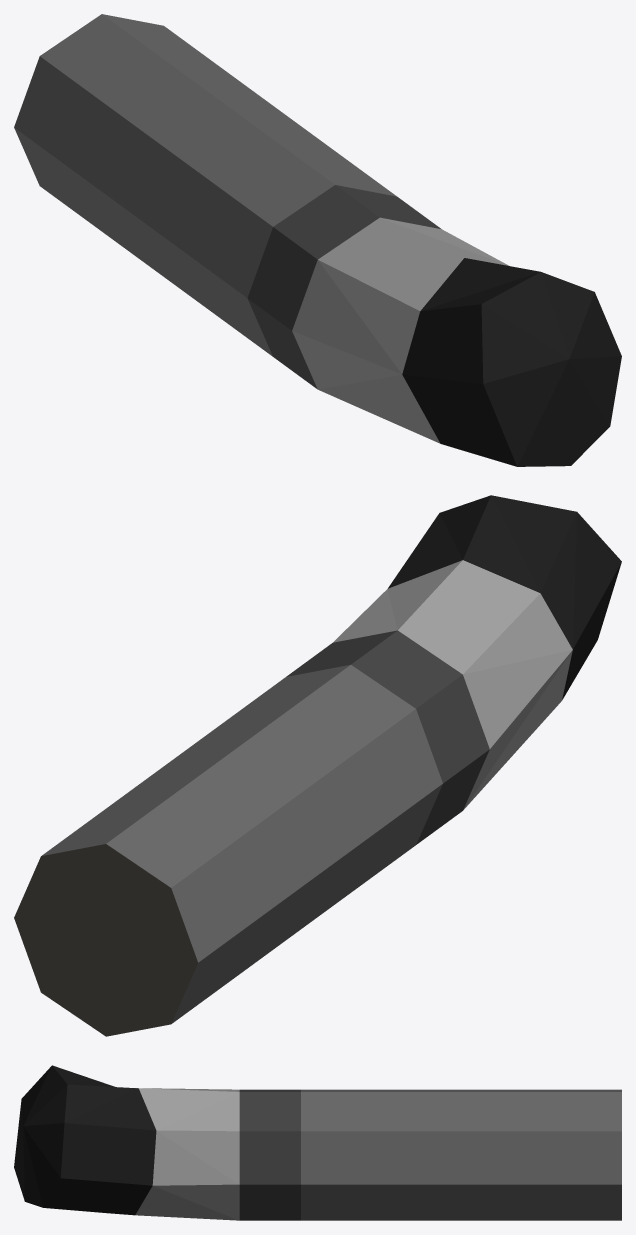
The model's file is Prop_Cigarette_03.fbx.
3 views of the same model, one above another, from view 1: azimuth 30°, elevation 25°; view 2: azimuth 150°, elevation 25°; view 3: azimuth 270°, elevation 25° (orthographic). The views are drawn at different scales.
Visible parts, largest first — view 1: Prop_Cigarette_03_LOD0; view 2: Prop_Cigarette_03_LOD0; view 3: Prop_Cigarette_03_LOD0.
Boxes of the visible parts, x1,y1,x2,y2 form: Prop_Cigarette_03_LOD0: (14, 14, 621, 466); Prop_Cigarette_03_LOD0: (14, 495, 621, 1036); Prop_Cigarette_03_LOD0: (14, 1065, 621, 1220).
Size of what is drawn, in the model's own units: 1.44 by 1.46 by 5.5.
